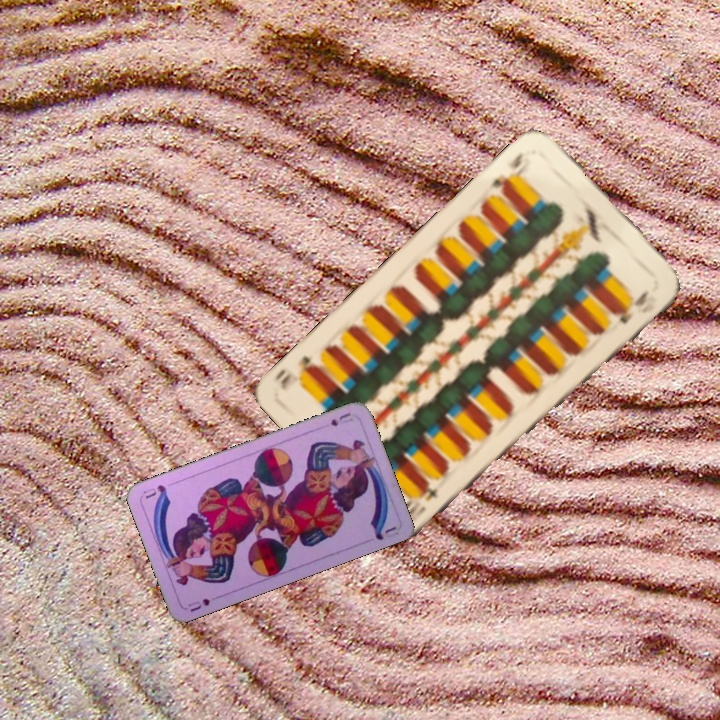E10: (487, 148, 529, 196), (403, 483, 441, 524)
SU: (184, 591, 221, 614), (327, 408, 356, 429)
